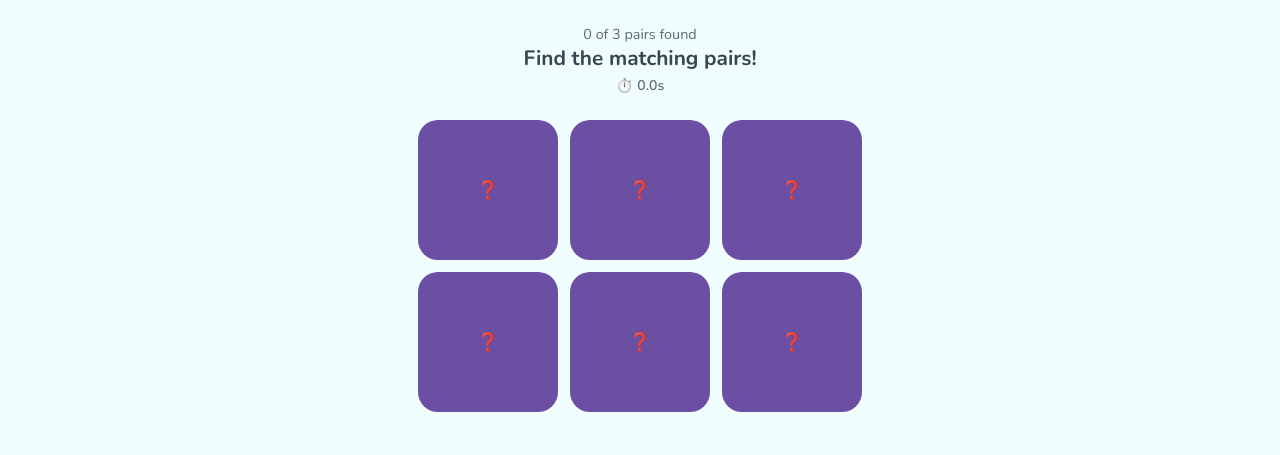
Test case: AnimalMemoryMatchGame › stops the final match sound when the results screen appears (issue #52)
Click the 1st button "❓" at (488, 190), box [418,120,558,260]
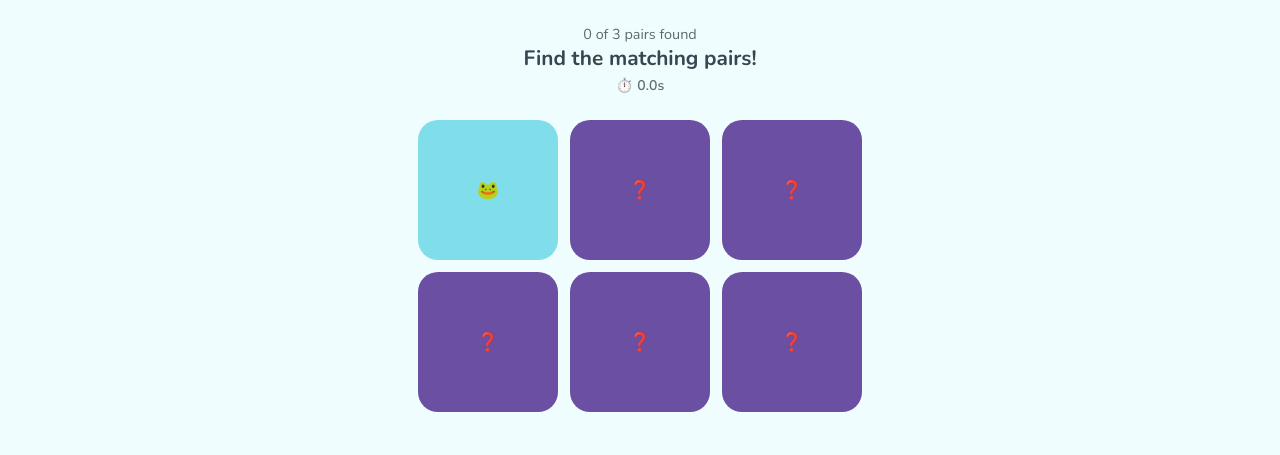
Click the 3rd button "❓" at (488, 342), box [418,272,558,412]
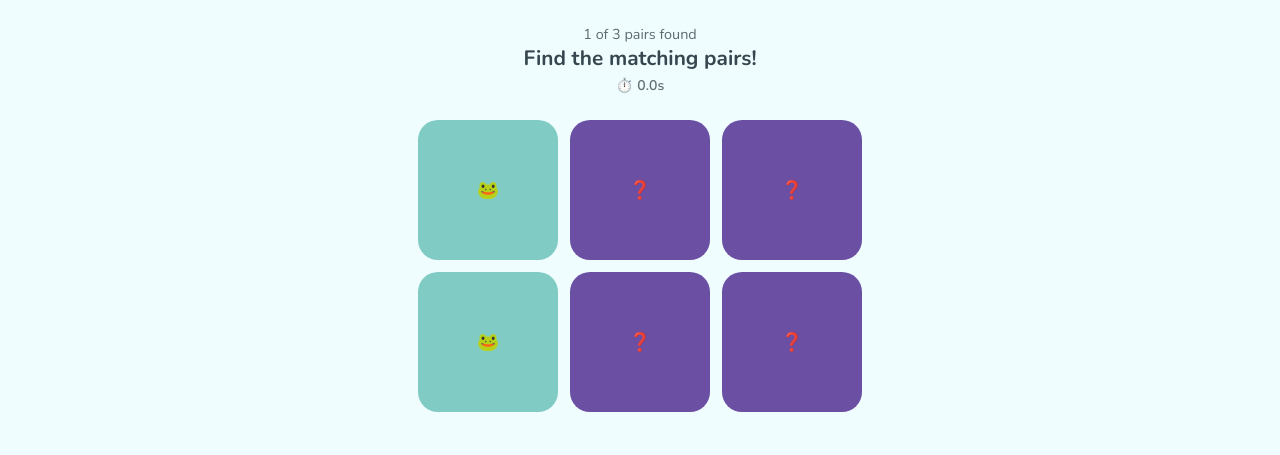
Click the 1st button "❓" at (640, 190), box [570,120,710,260]
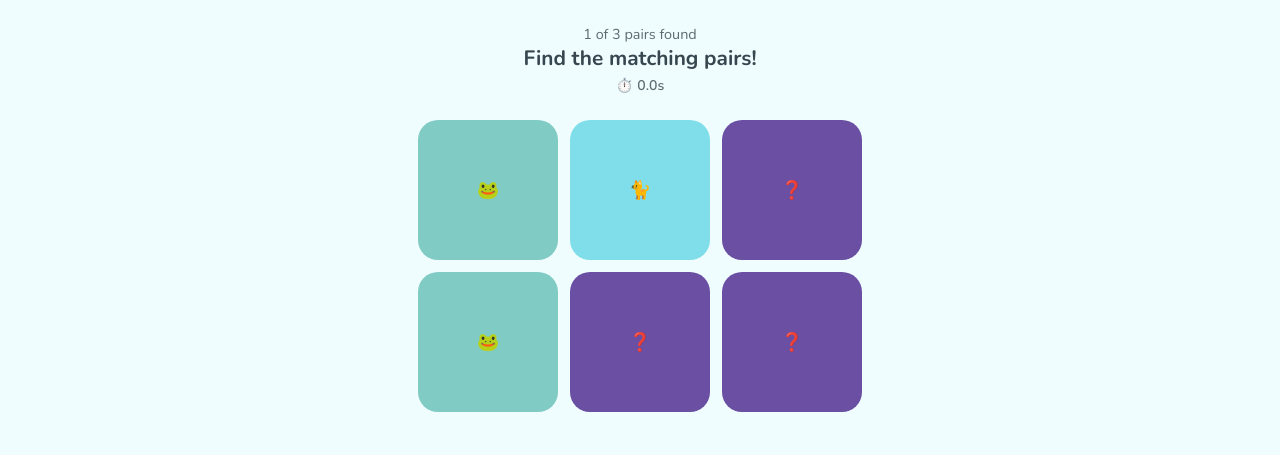
Click the 2nd button "❓" at (640, 342), box [570,272,710,412]
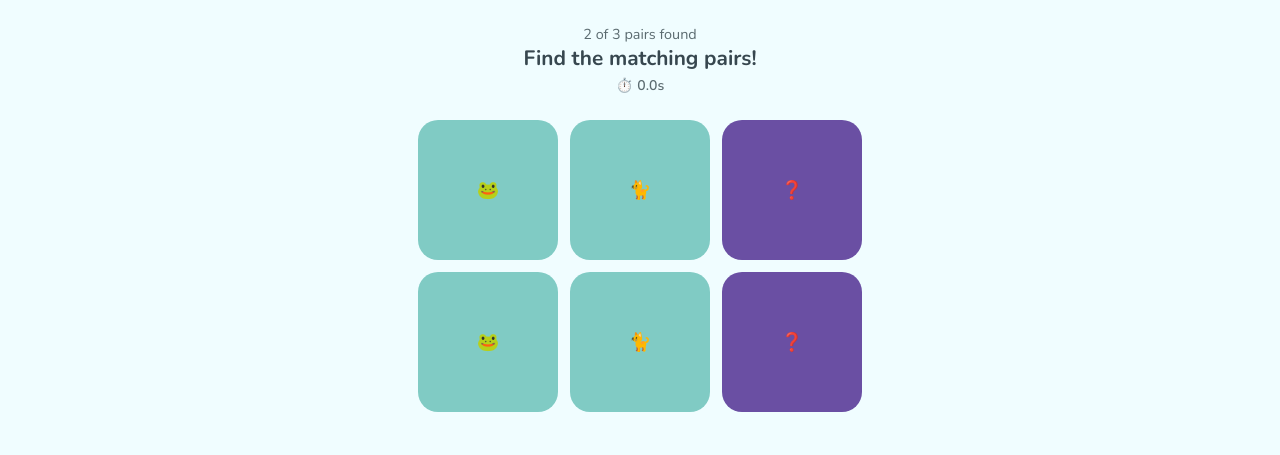
Click the 1st button "❓" at (792, 190), box [722,120,862,260]
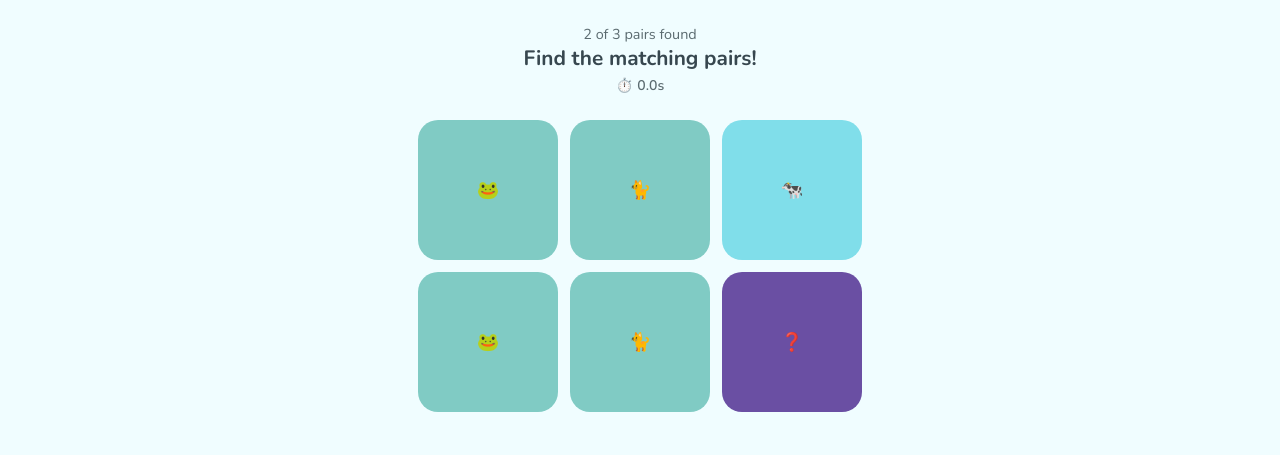
Click the button "❓" at (792, 342), box [722,272,862,412]
Wait 2100 ms
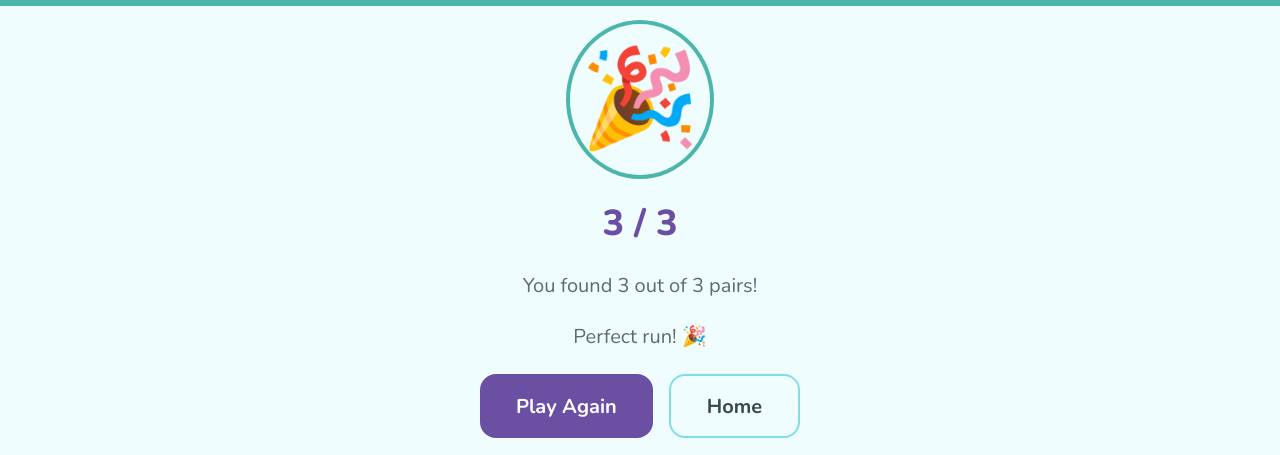
Result: the text "You found 3 out of 3 pairs!" is shown at [523,272,757,299]
